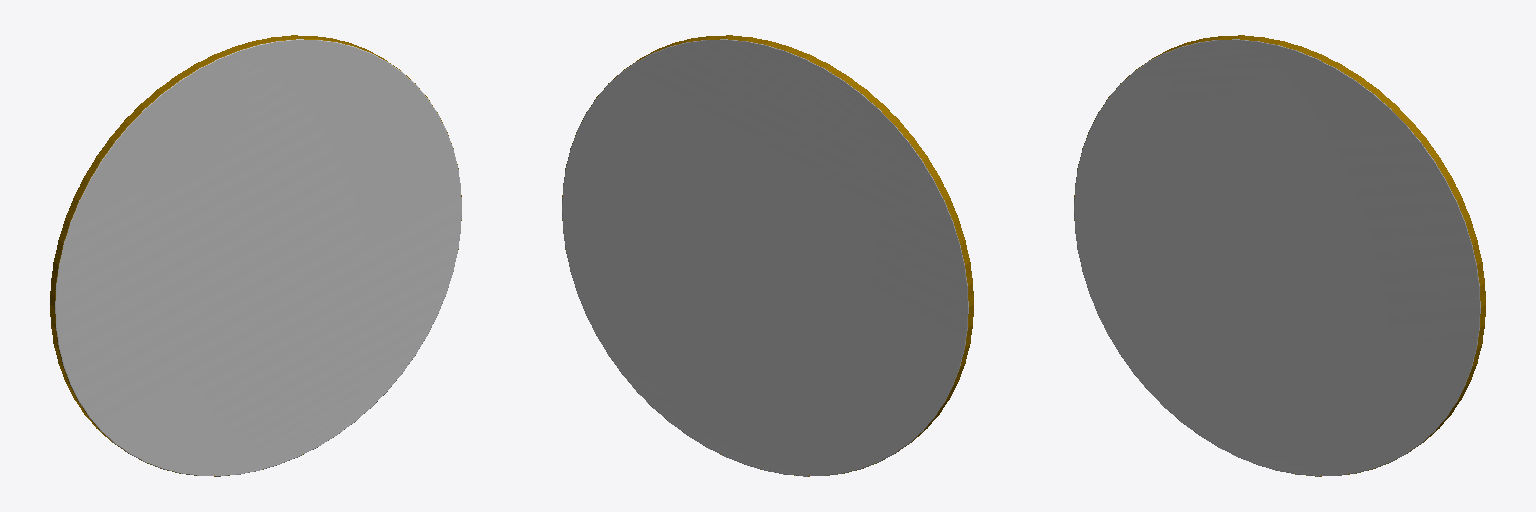
Rendered from hallacoin.obj.
3 views of the same model, side by side, from view 1: azimuth 30°, elevation 25°; view 2: azimuth 150°, elevation 25°; view 3: azimuth 330°, elevation 25° (orthographic).
Visible parts, largest first — view 1: Circle; view 2: Circle; view 3: Circle.
Part boxes in pixels (left/top/right/bottom): Circle: left=50, top=35, right=461, bottom=476; Circle: left=562, top=35, right=973, bottom=476; Circle: left=1074, top=35, right=1485, bottom=476.
Size of the model in its own units: 2 by 2 by 0.0479.